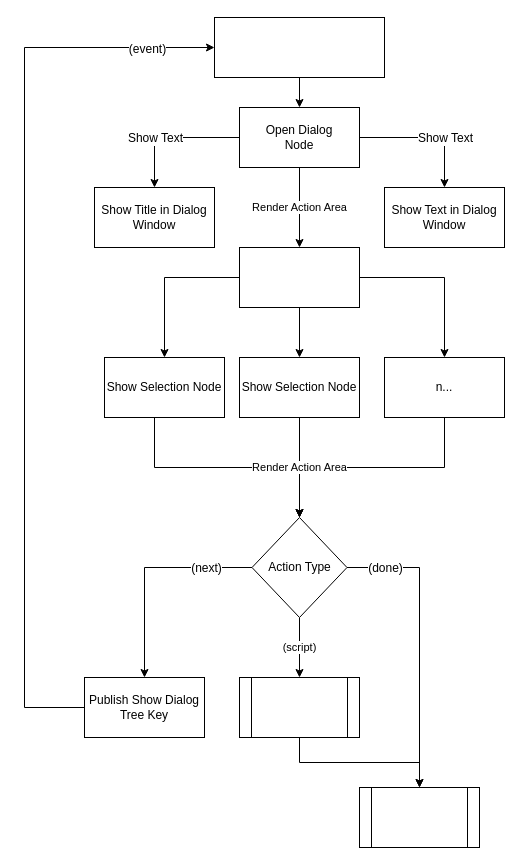
This 522x865 diagram has some shape labels left out. Each missing label, with the box of its shape:
Close Dialog: (358, 786, 480, 848)
On Interaction.Dialog.Open: (214, 16, 384, 78)
Run Selection Script: (238, 676, 360, 738)
Show Actions: (238, 246, 360, 308)
